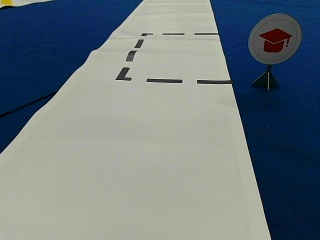school: (248, 14, 301, 64)
